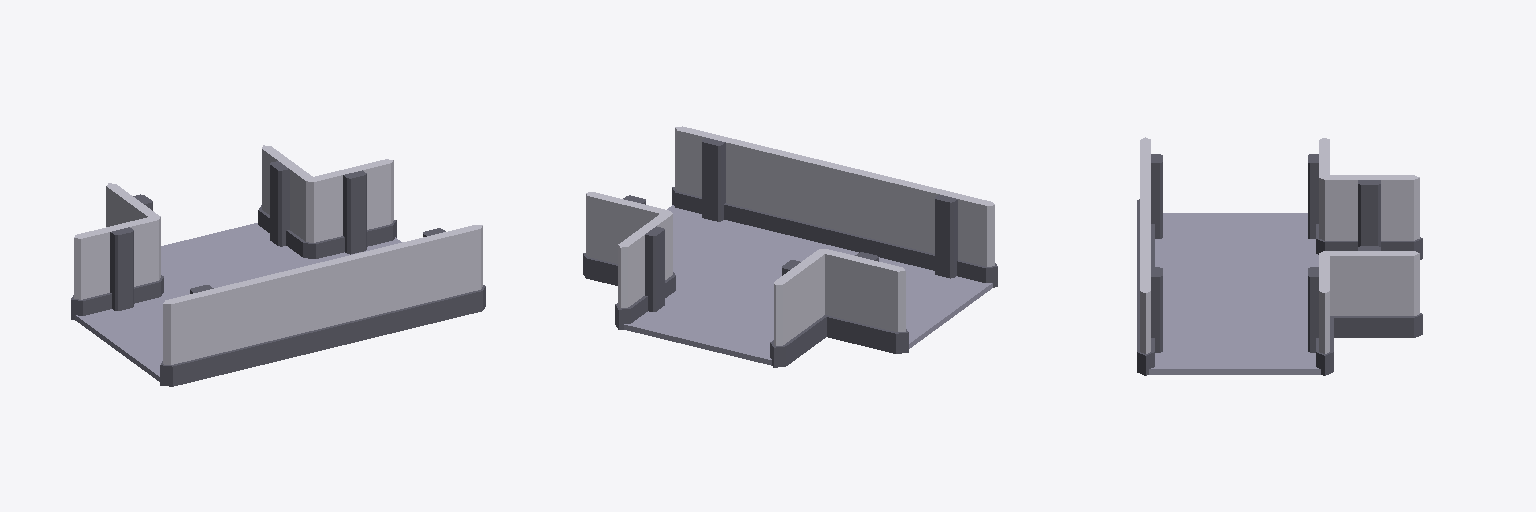
The model's file is intersection_3way_03.obj.
3 views of the same model, side by side, from view 1: azimuth 30°, elevation 25°; view 2: azimuth 150°, elevation 25°; view 3: azimuth 270°, elevation 25° (orthographic).
Visible parts, largest first — view 1: wall_02_8, wall_02_7, wall_02_4, wall_02_9, wall_01_11, wall_01_10, floor_04_3, wall_02_5, floor_04_2, wall_02_6, floor_01_0; view 2: wall_02_7, wall_02_8, floor_01_0, wall_02_9, wall_01_10, wall_01_11, floor_04_3, wall_02_6, wall_02_5, wall_02_4, floor_04_2, floor_04_1; view 3: floor_01_0, wall_02_5, wall_02_6, floor_04_1, floor_04_2, wall_02_9, wall_02_4, wall_02_7, wall_02_8, wall_01_11.
Part boxes in pixels (x1,y1,x2,y2): wall_02_8: (160, 282, 250, 386); wall_02_7: (71, 216, 163, 319); wall_02_4: (303, 159, 396, 258); wall_02_9: (397, 225, 485, 329); wall_01_11: (243, 263, 327, 367); wall_01_10: (318, 244, 404, 348); floor_04_3: (161, 223, 307, 290); wall_02_5: (258, 145, 314, 256); floor_04_2: (75, 294, 168, 381); wall_02_6: (106, 183, 163, 276); floor_01_0: (163, 258, 324, 298); wall_02_7: (825, 249, 908, 353); wall_02_8: (908, 183, 997, 287); floor_01_0: (674, 225, 912, 316); wall_02_9: (672, 126, 761, 225); wall_01_10: (752, 146, 839, 244); wall_01_11: (829, 164, 912, 263); floor_04_3: (624, 293, 773, 365); wall_02_6: (770, 249, 827, 367); wall_02_5: (615, 212, 675, 329); wall_02_4: (583, 192, 675, 285); floor_04_2: (906, 266, 992, 348); floor_04_1: (667, 205, 752, 277); floor_01_0: (1155, 251, 1318, 330); wall_02_5: (1320, 246, 1422, 337); wall_02_6: (1316, 175, 1422, 259); floor_04_1: (1149, 329, 1320, 374); floor_04_2: (1155, 213, 1317, 255); wall_02_9: (1137, 251, 1162, 375); wall_02_4: (1308, 251, 1333, 375); wall_02_7: (1308, 138, 1329, 254); wall_02_8: (1137, 137, 1162, 238); wall_01_11: (1137, 178, 1154, 277).
Bounding box in the file's own units: 4.21 × 1 × 3.21.